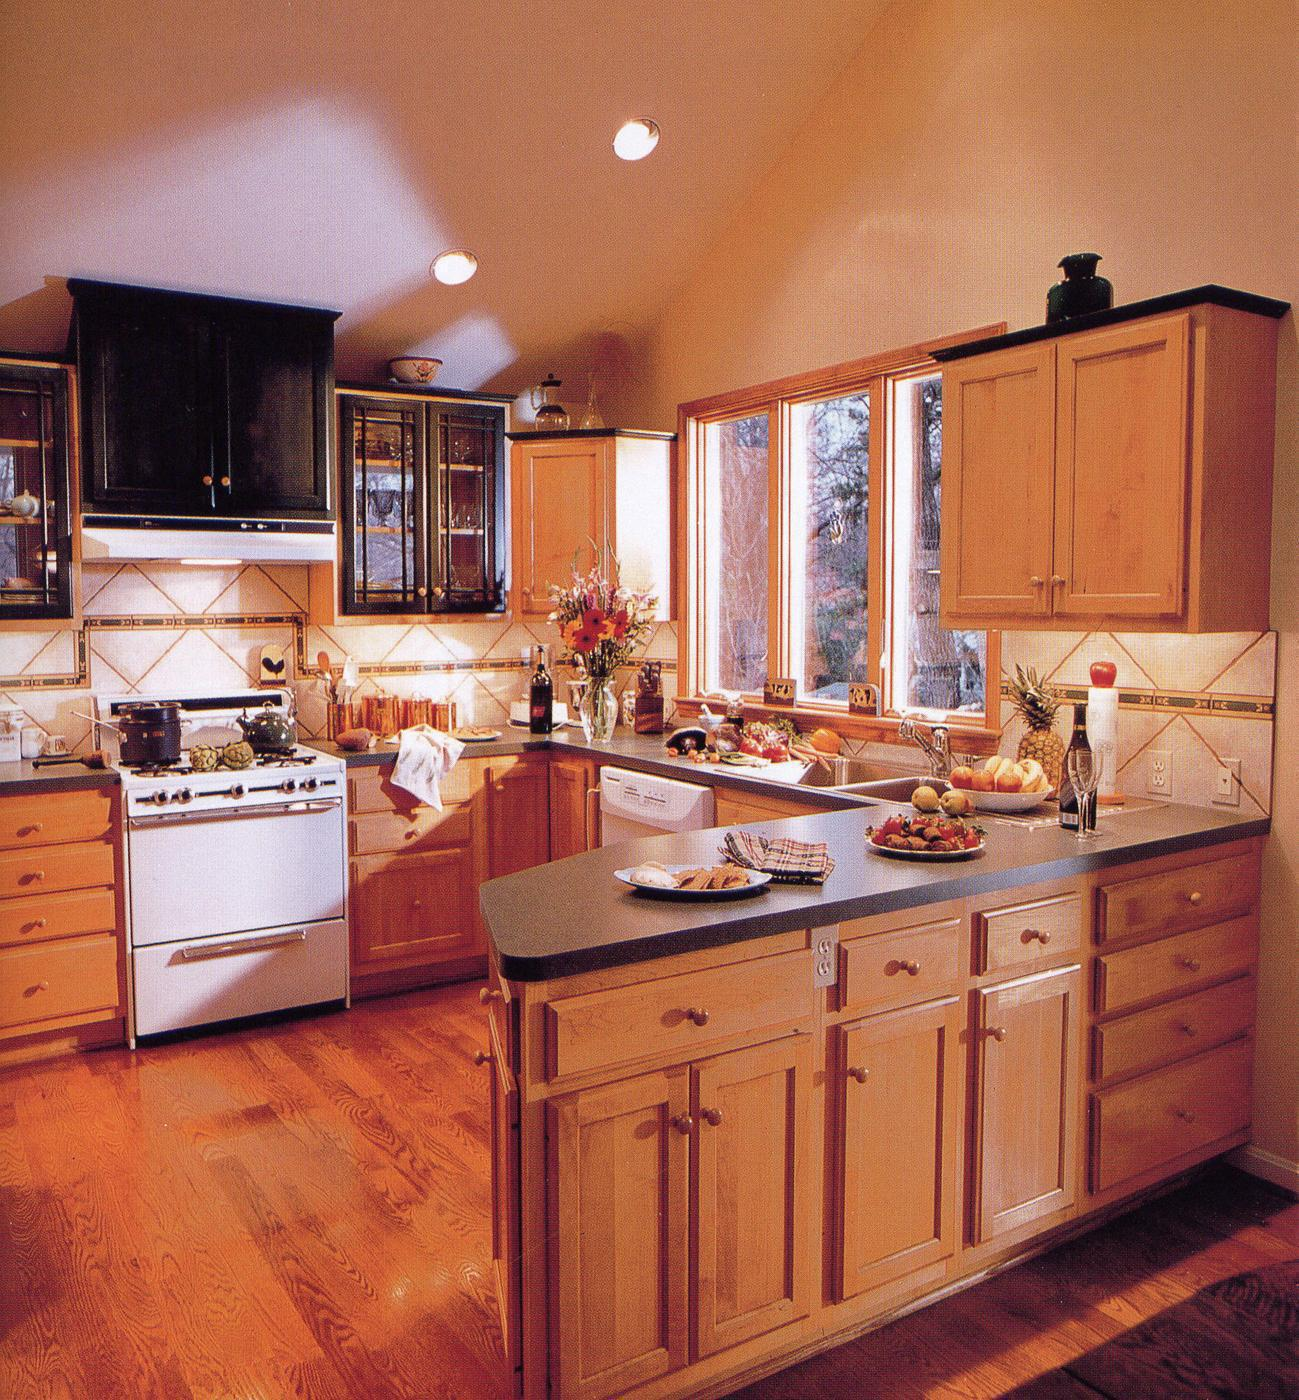Electrodomestico: (126, 779, 349, 1009)
Ventana: (698, 411, 989, 715)
